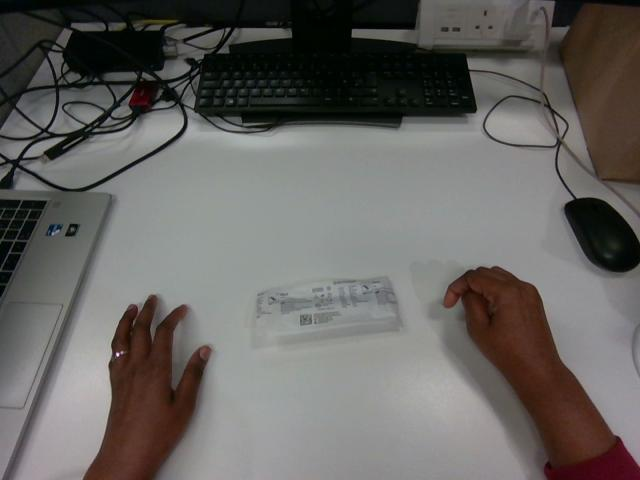syringe: (254, 276, 400, 344)
